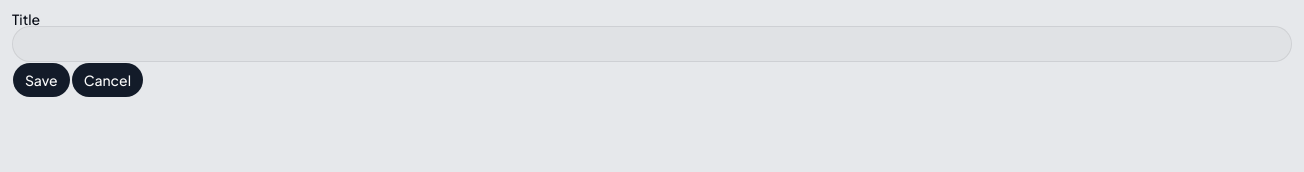
Test: retains drafts on failure and allows recovery without duplicating submissions
Later steps or results of the test are not shown.
Type "Call customer" into the field labelled "Title".
click(652, 44); type("Call customer")  # box [12,26,1292,62]
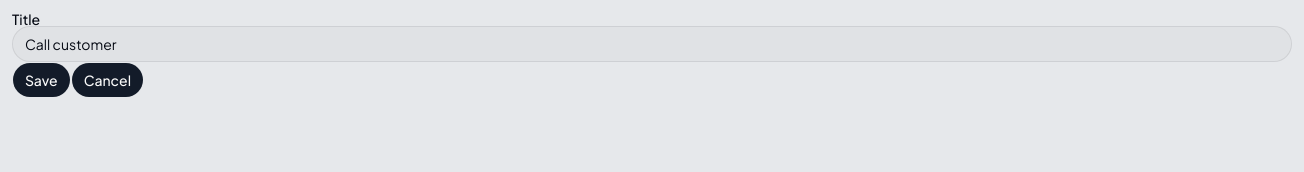
Submit the form, box [12,12,1292,98]
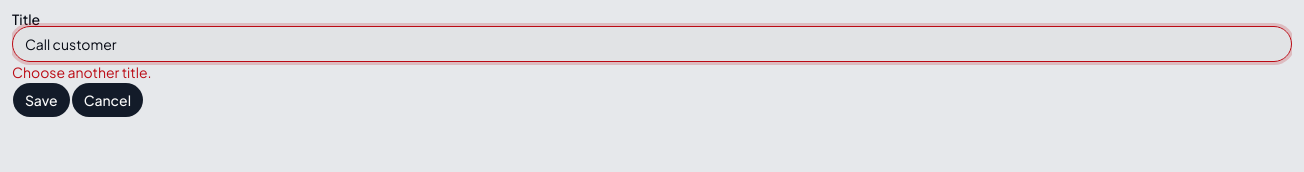
Now the text "Choose another title." is shown, box [12,63,152,81]
